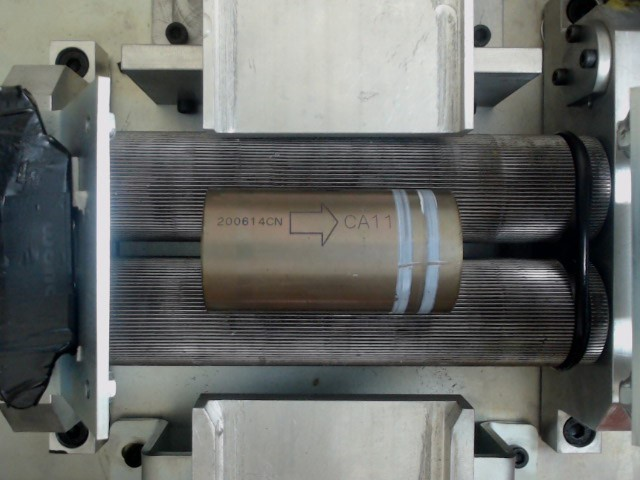arrow: (284, 202, 340, 249)
double_ringmark: (385, 191, 441, 314)
lotmark: (217, 214, 285, 230)
model_no: (341, 205, 395, 234)
